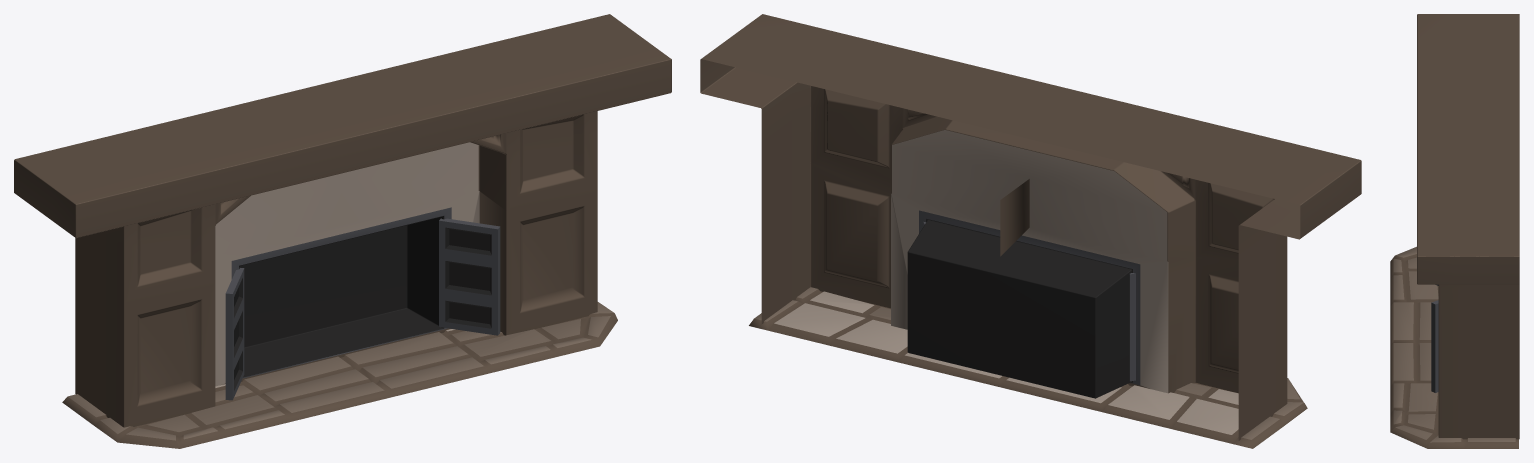
The model's file is fireplace.gltf.
The picture shows the model from 3 angles, left to right: view 1: azimuth 30°, elevation 25°; view 2: azimuth 150°, elevation 25°; view 3: azimuth 270°, elevation 25°; orthographic projection. The views are drawn at different scales.
Parts seen in each view (by area): view 1: Cube, Cube.001; view 2: Cube, Cube.001; view 3: Cube, Cube.001.
Boxes of the visible parts, left/top/right/bottom form: Cube: left=14, top=14, right=671, bottom=448; Cube.001: left=225, top=218, right=500, bottom=400; Cube: left=700, top=14, right=1361, bottom=448; Cube.001: left=923, top=221, right=1135, bottom=381; Cube: left=1390, top=14, right=1519, bottom=448; Cube.001: left=1431, top=284, right=1438, bottom=392.
Size of the model in its own units: 2.87 by 1.17 by 0.6461.
